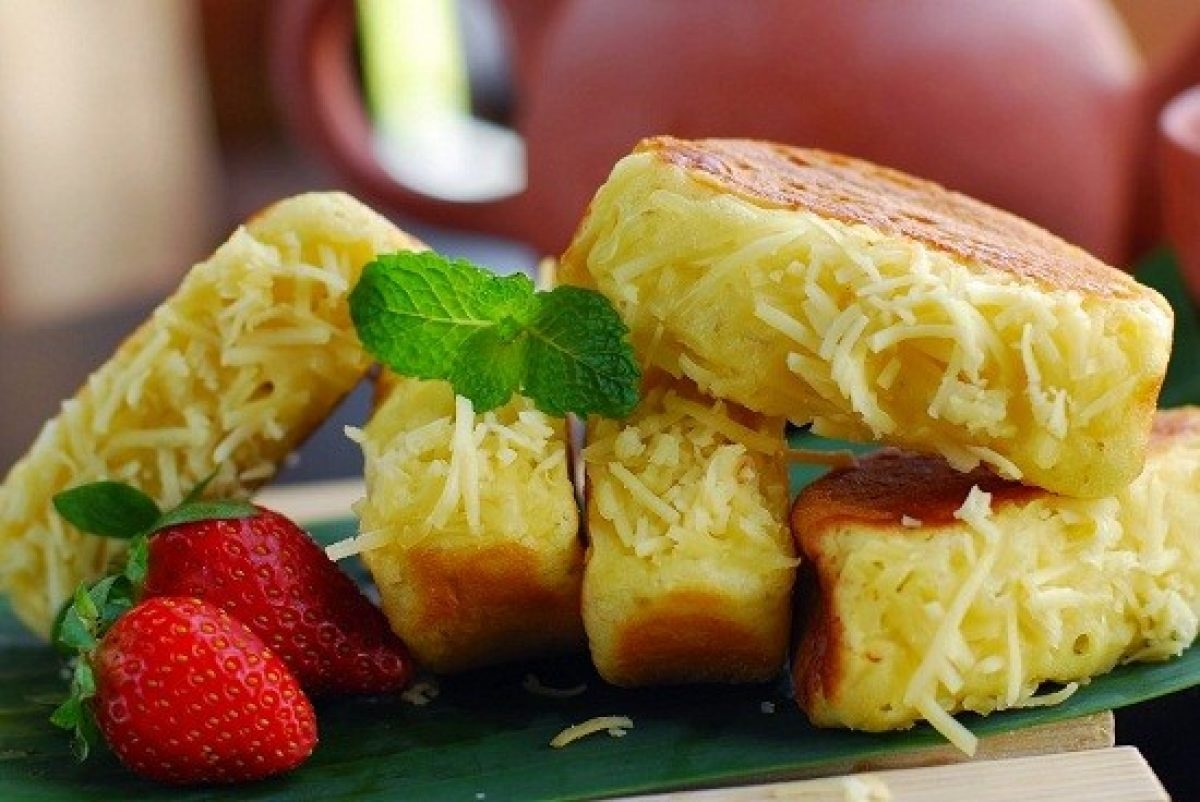pukis: (549, 86, 1186, 468)
